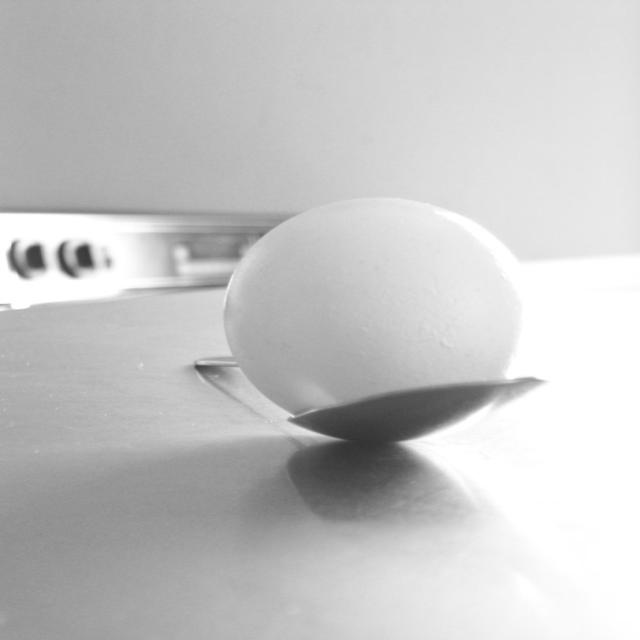Egg: (222, 195, 538, 412)
